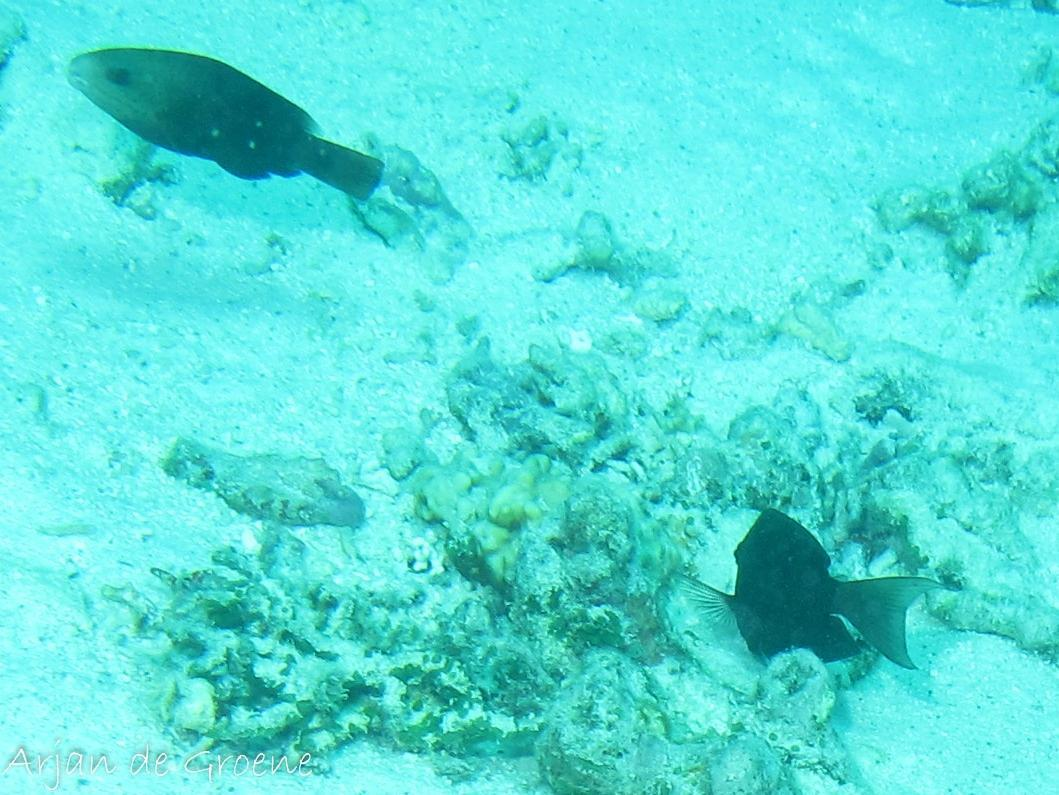Chlorurus sordidus: (52, 32, 412, 248)
